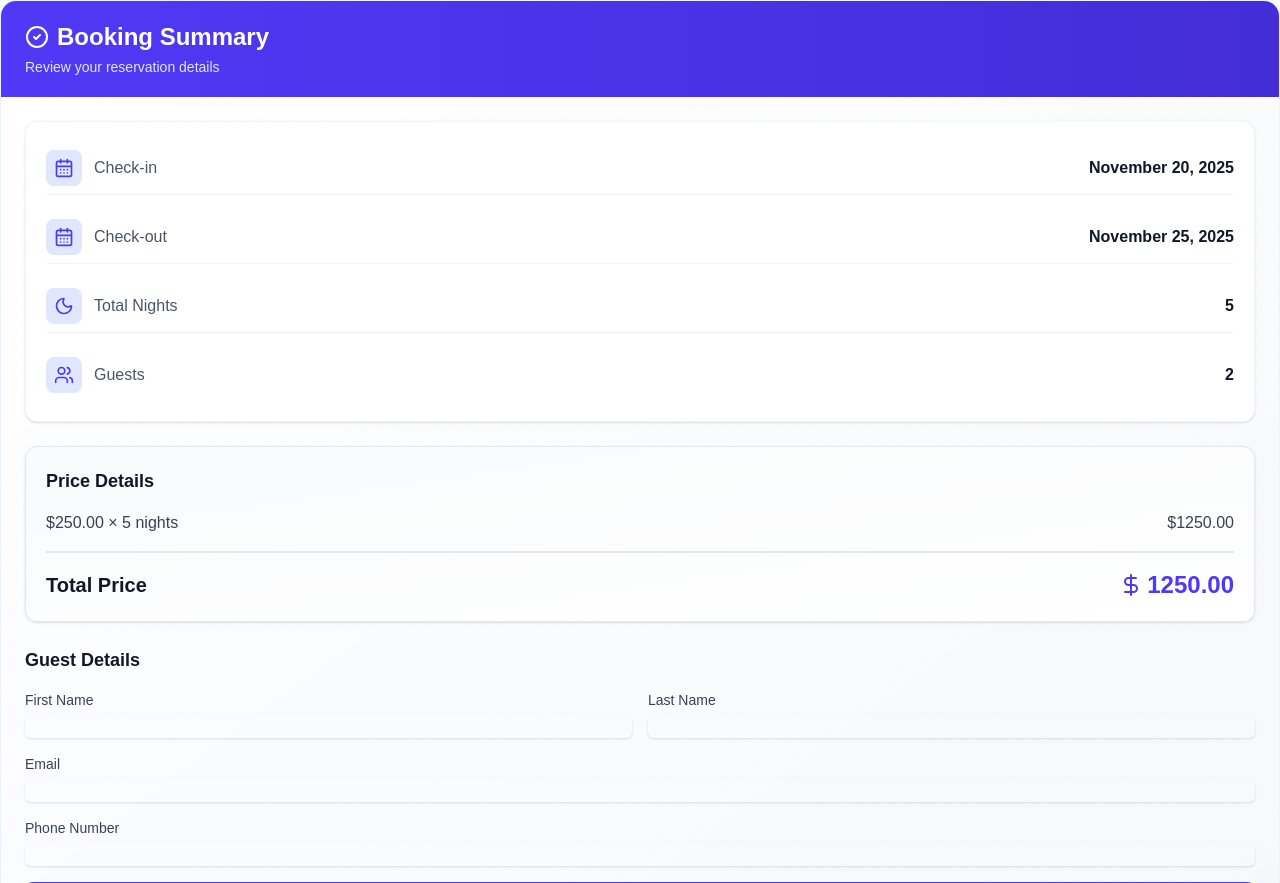
Test case: BookingConfirmation › shows server error message if createBooking fails
In the field labelled "First Name": (328, 726) [25,714,632,738], type "Test"
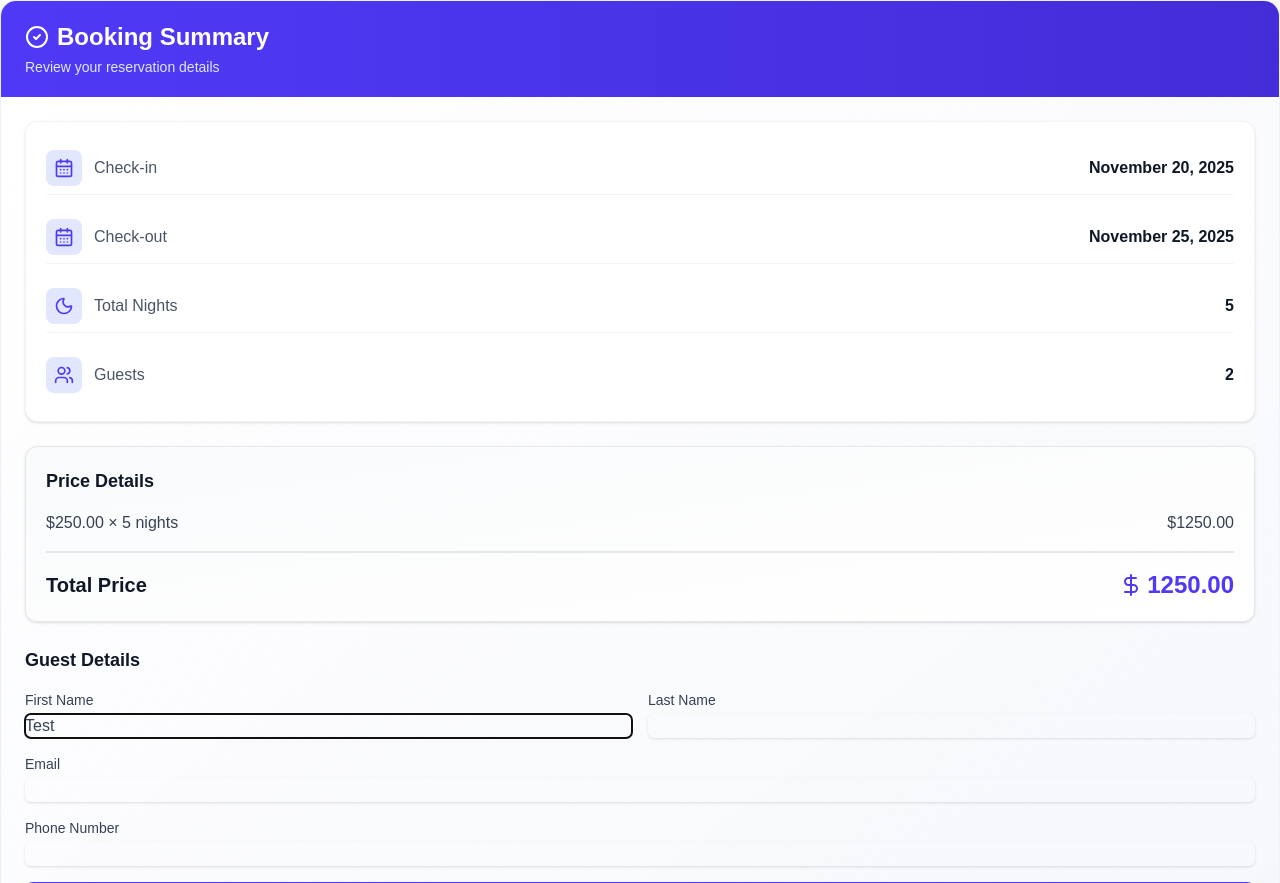
In the field labelled "Last Name": (952, 726) [648,714,1255,738], type "User"
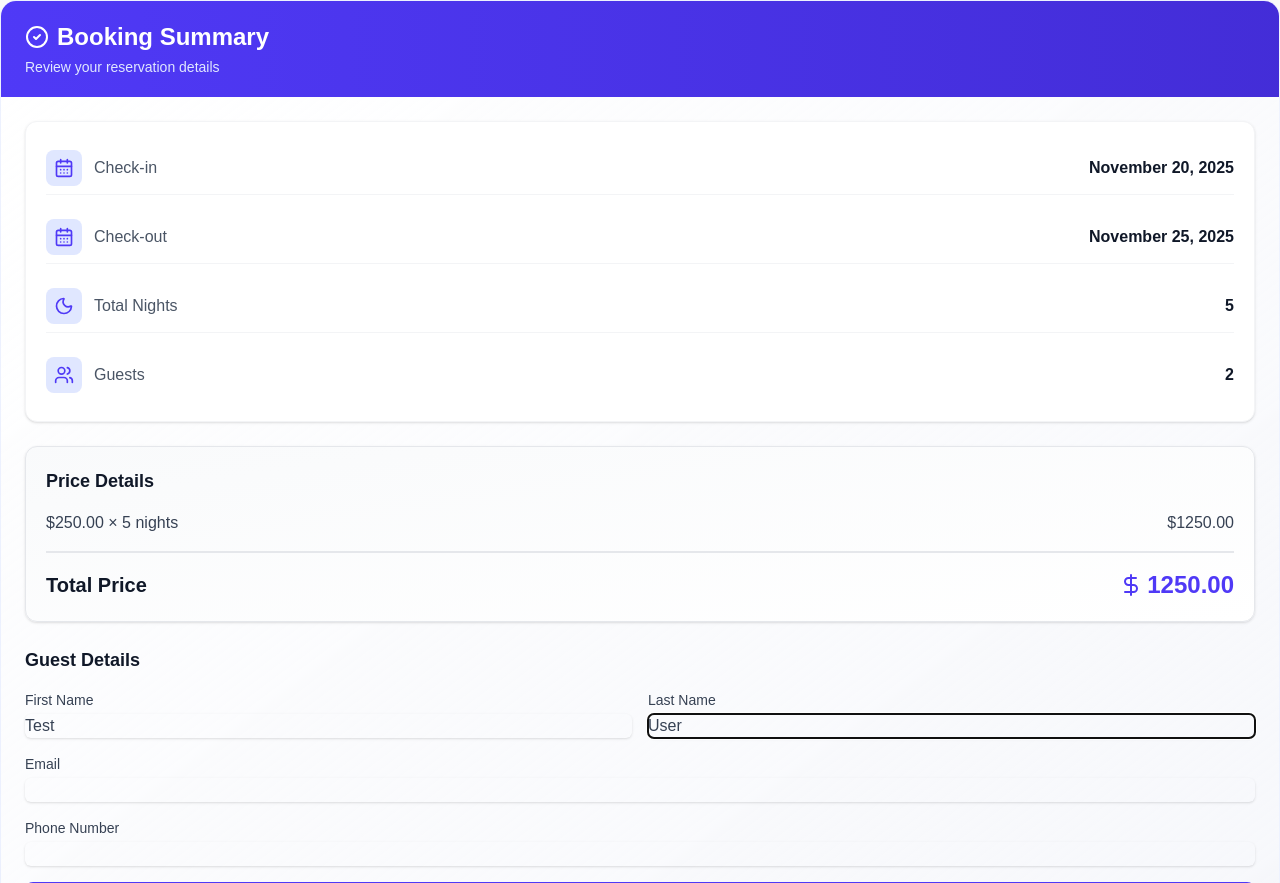
In the field labelled "Email": (640, 790) [25,778,1255,802], type "test@user.com"
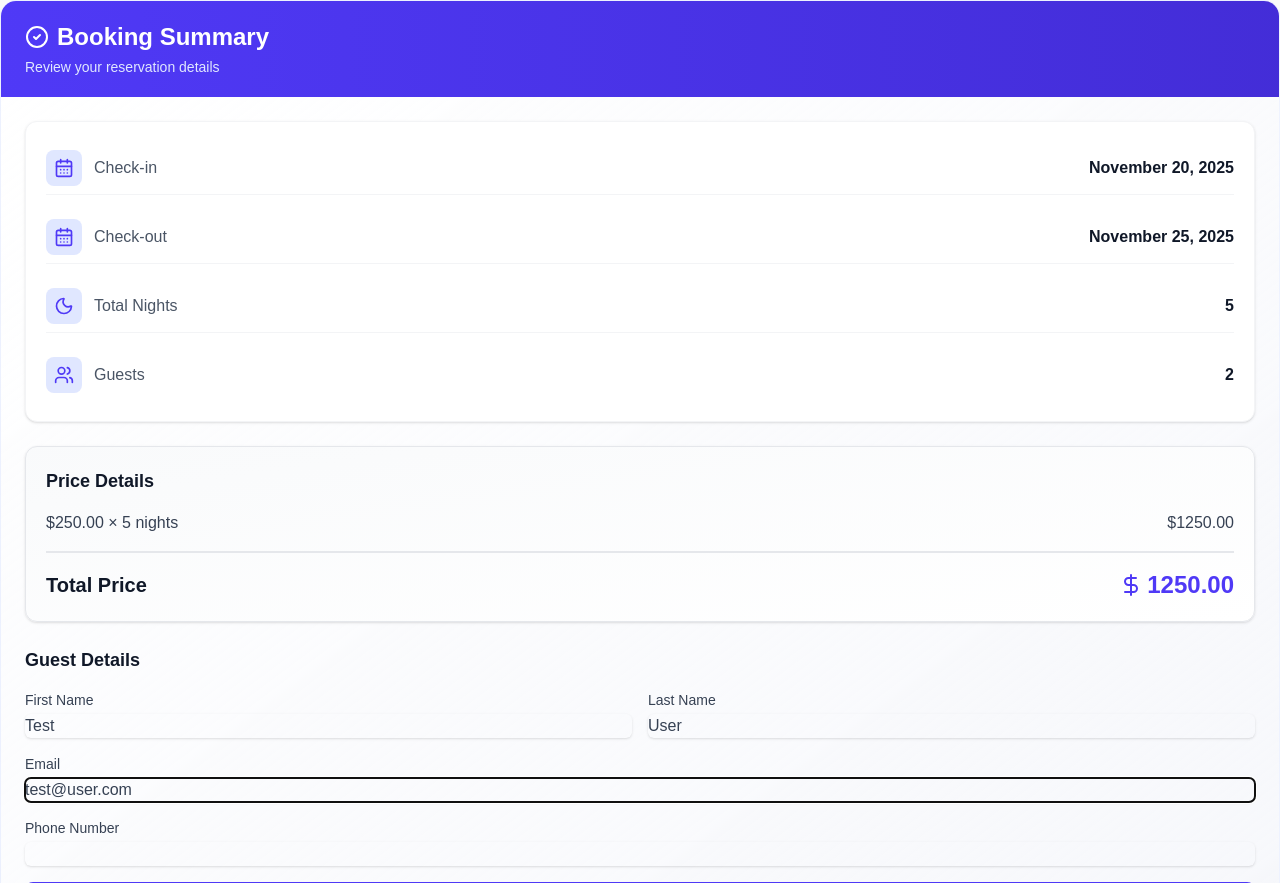
In the field labelled "Phone Number": (640, 854) [25,842,1255,866], type "123456789"
(page scrolled)
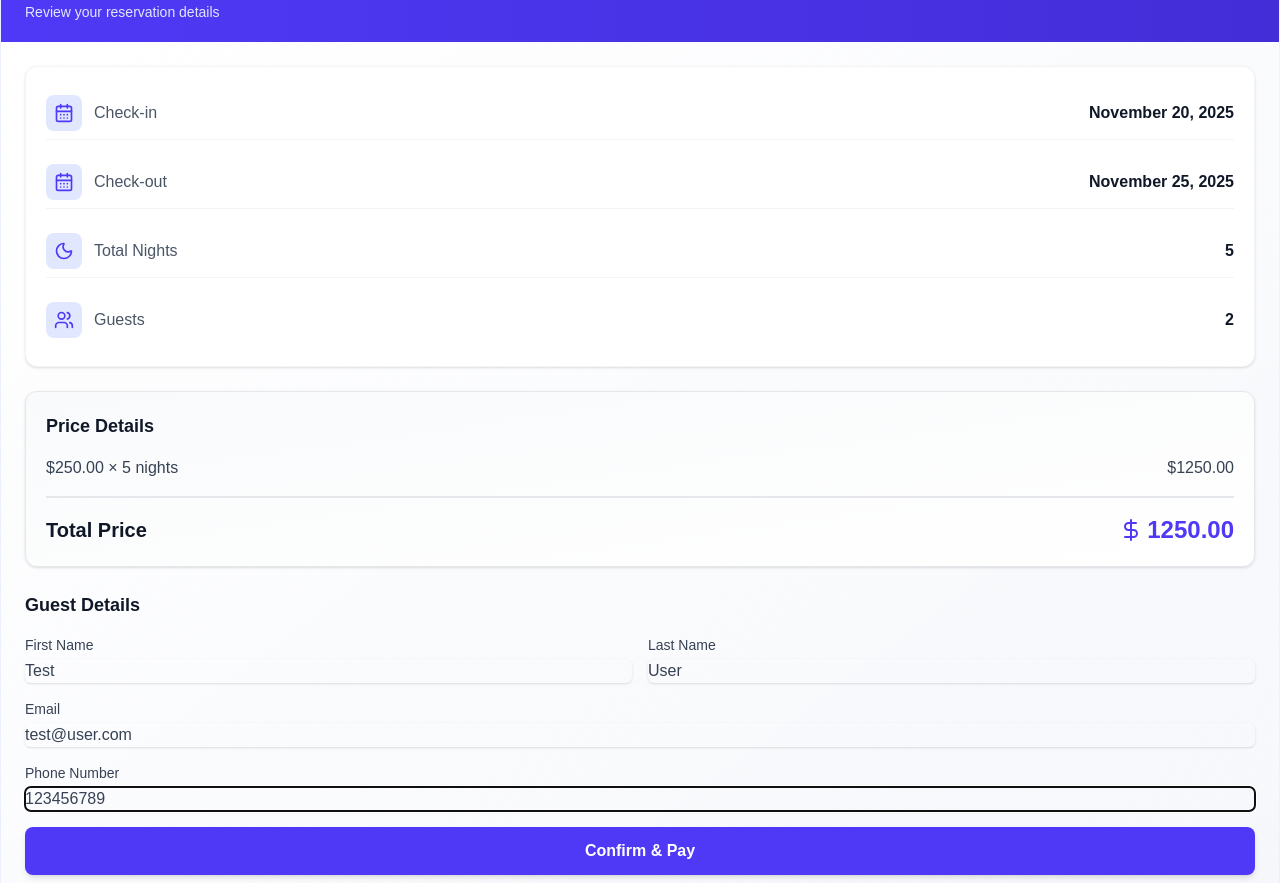
Click the button "Confirm & Pay": (640, 851) [25,827,1255,875]
(page scrolled)
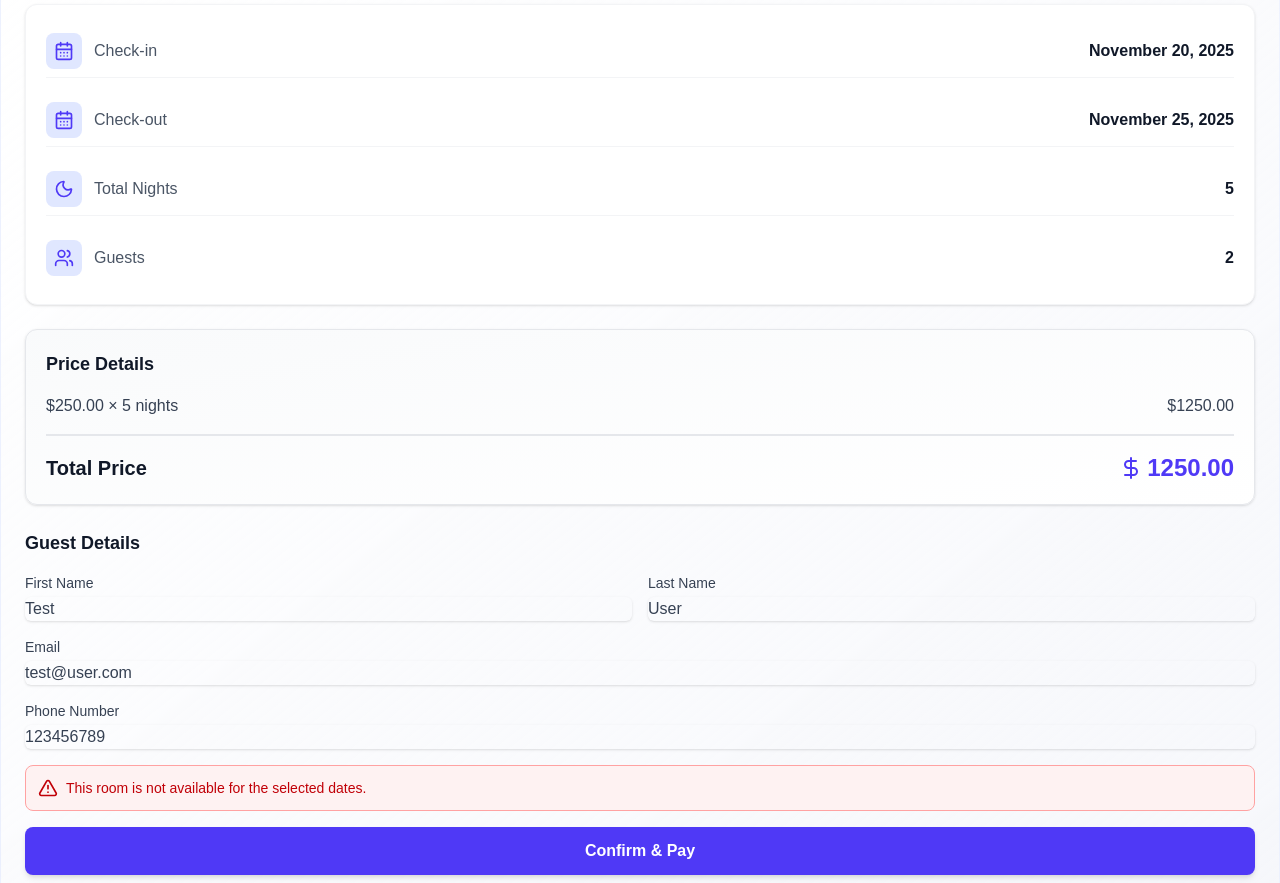
Expected: the text "This room is not available for the selected dates." is shown, [66,778,366,798]
